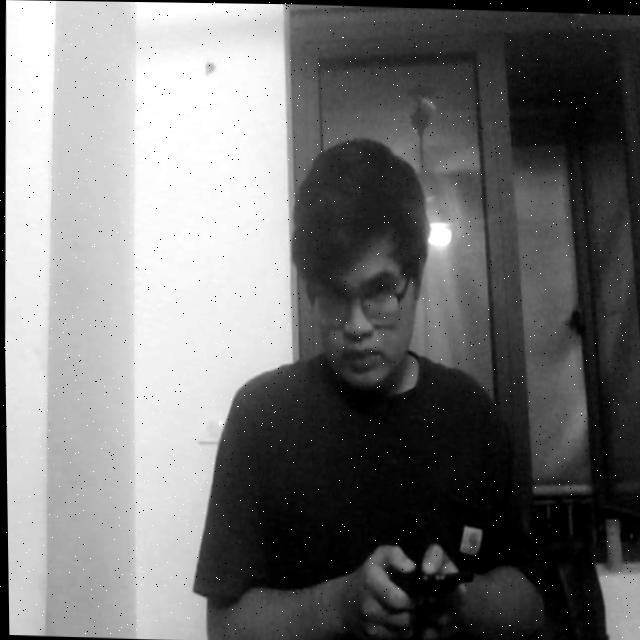phone: (376, 536, 473, 628)
